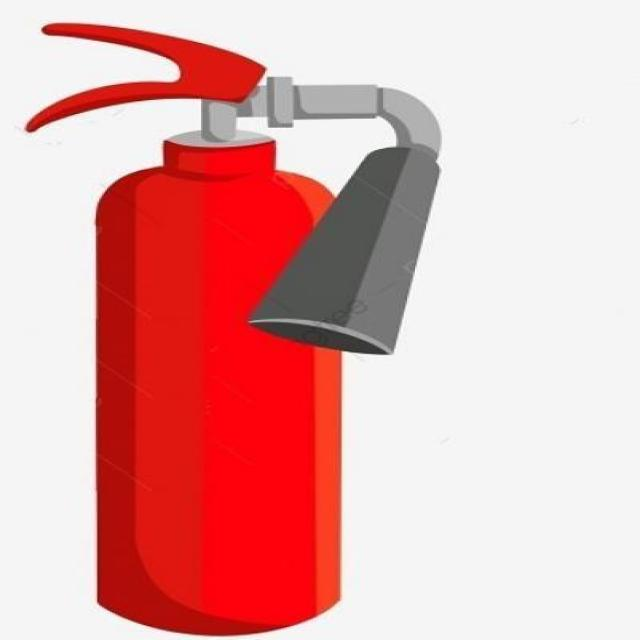fire_extinguisher: (14, 16, 446, 639)
